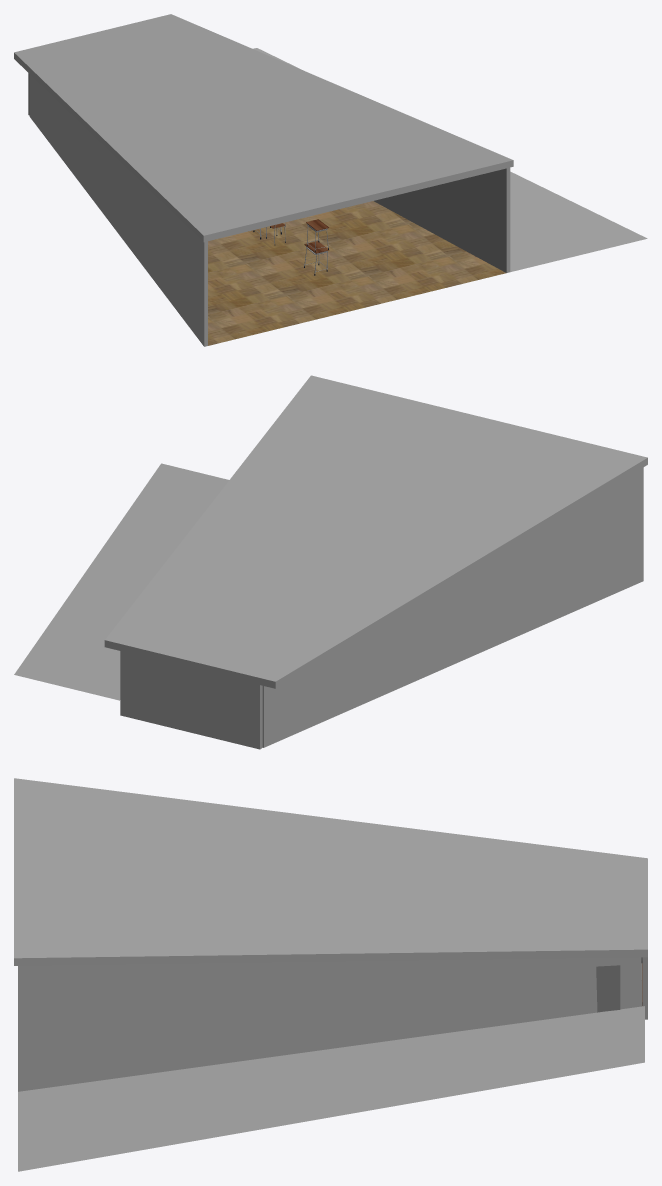
The model's file is classroom_1732.fbx.
The picture shows the model from 3 angles, top to bottom: view 1: azimuth 30°, elevation 25°; view 2: azimuth 150°, elevation 25°; view 3: azimuth 270°, elevation 25°; orthographic projection. The views are drawn at different scales.
Visible parts, largest first — view 1: ceiling, floor_, wall4, wall1, rouka; view 2: ceiling, wall4, rouka, wall2; view 3: ceiling, wall1, rouka, pCube32.
Part boxes in pixels (x1,y1,x2,y2): ceiling: (14, 14, 513, 241); floor_: (208, 201, 506, 345); wall4: (29, 74, 207, 346); wall1: (374, 167, 510, 272); rouka: (253, 48, 647, 271); ceiling: (104, 375, 647, 688); wall4: (262, 467, 643, 747); rouka: (14, 463, 228, 700); wall2: (120, 651, 262, 749); ceiling: (14, 778, 647, 965); wall1: (18, 957, 641, 1091); rouka: (18, 1006, 644, 1171); pCube32: (596, 964, 620, 1012).
Size of the model in its own units: 1153 by 279 by 1192.
7 materials, 6 textured.
